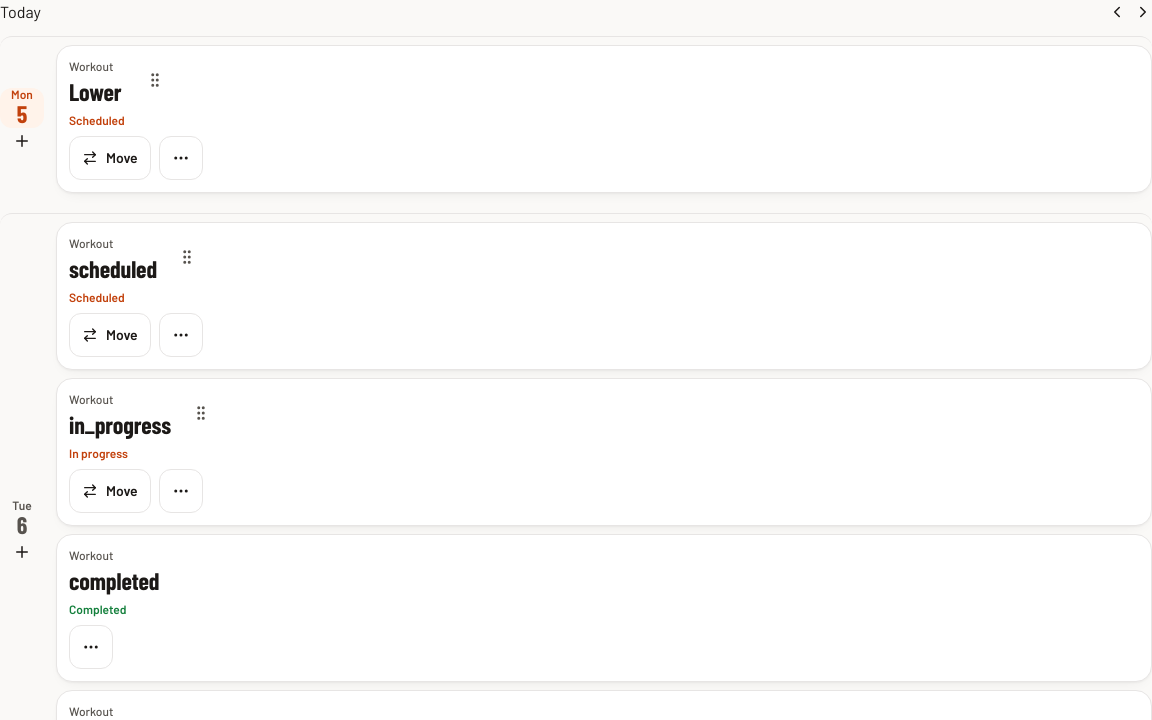
Test case: Calendar occupied-date choices › offers swap only for an unstarted scheduled occurrence among all workouts on the date
This screenshot has width=1152, height=720.
Click the button "Move" below "Lower" at (110,158), box [69,136,151,180]
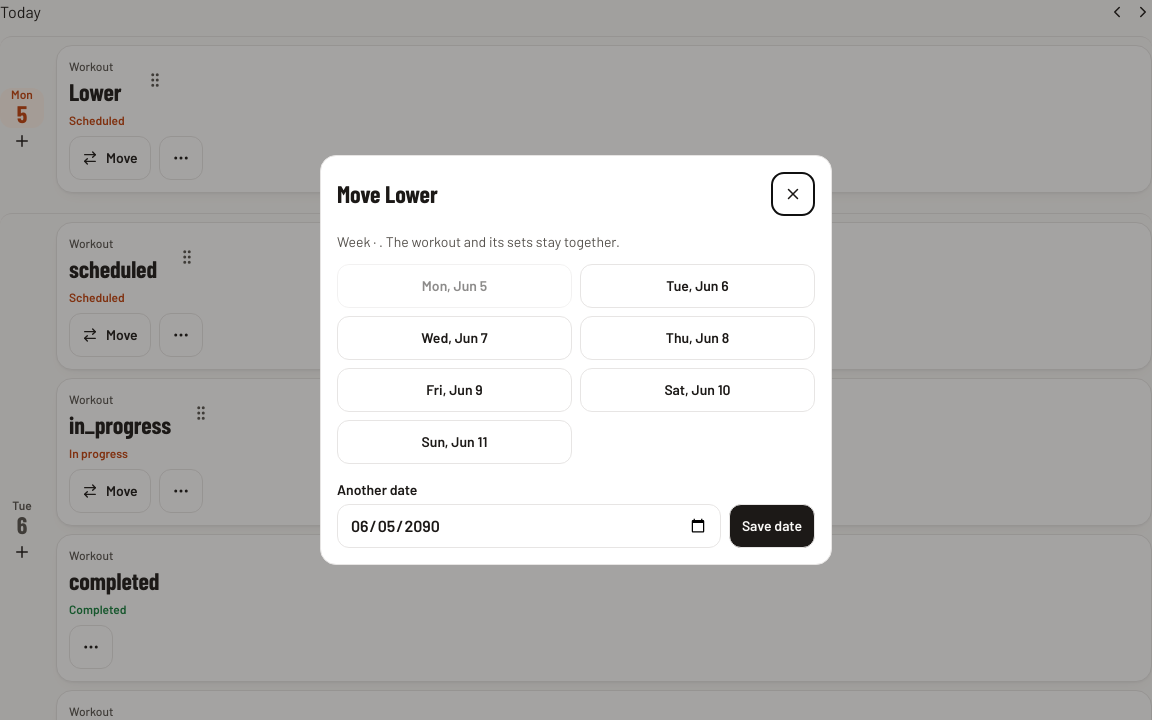
Click the button "Tue, Jun 6" at (698,286), box [580,264,815,308]
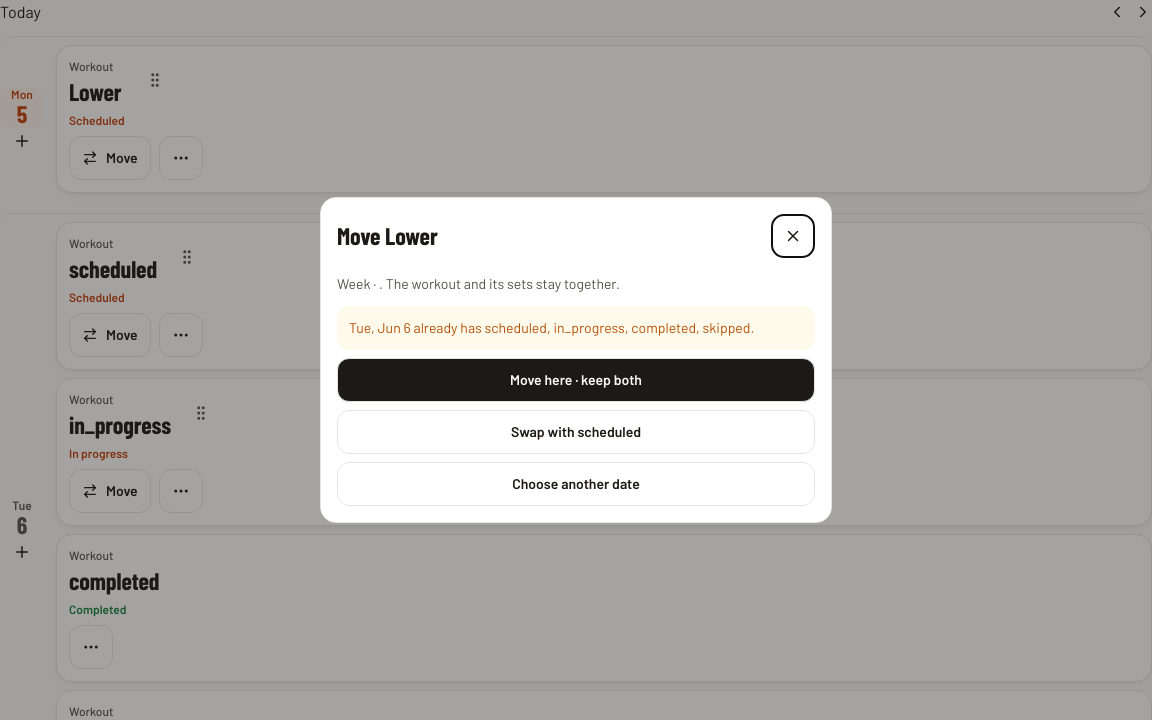
Check: the buttons "Swap with" read "Swap with scheduled", in this order, box [337,410,815,454]
Check: the text "already has scheduled, in_progress, completed, skipped" is shown, box [337,306,815,350]
